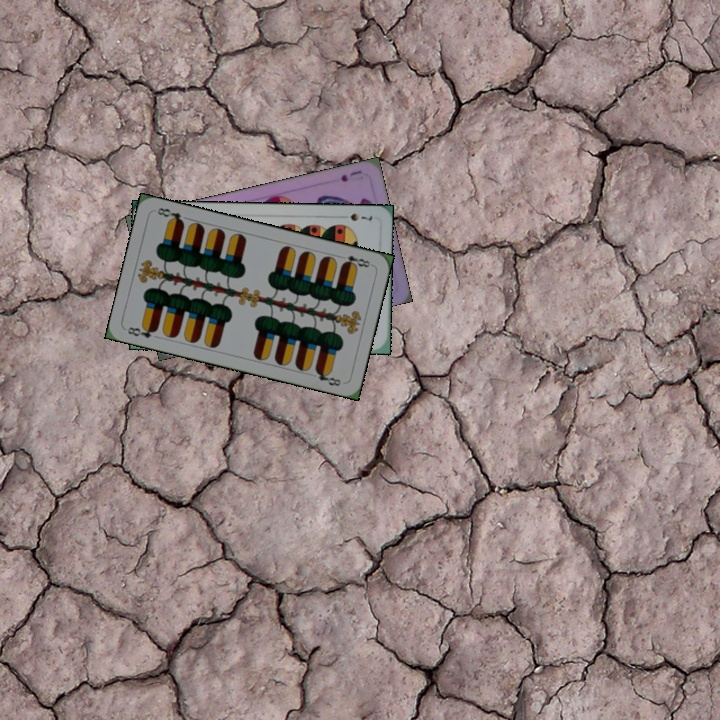E8: (335, 251, 375, 270), (123, 321, 160, 341)
S7: (346, 209, 375, 224)
SU: (336, 166, 364, 184)
